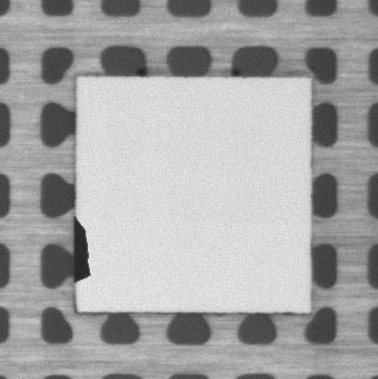DIE_BROKEN: (71, 221, 93, 287)
